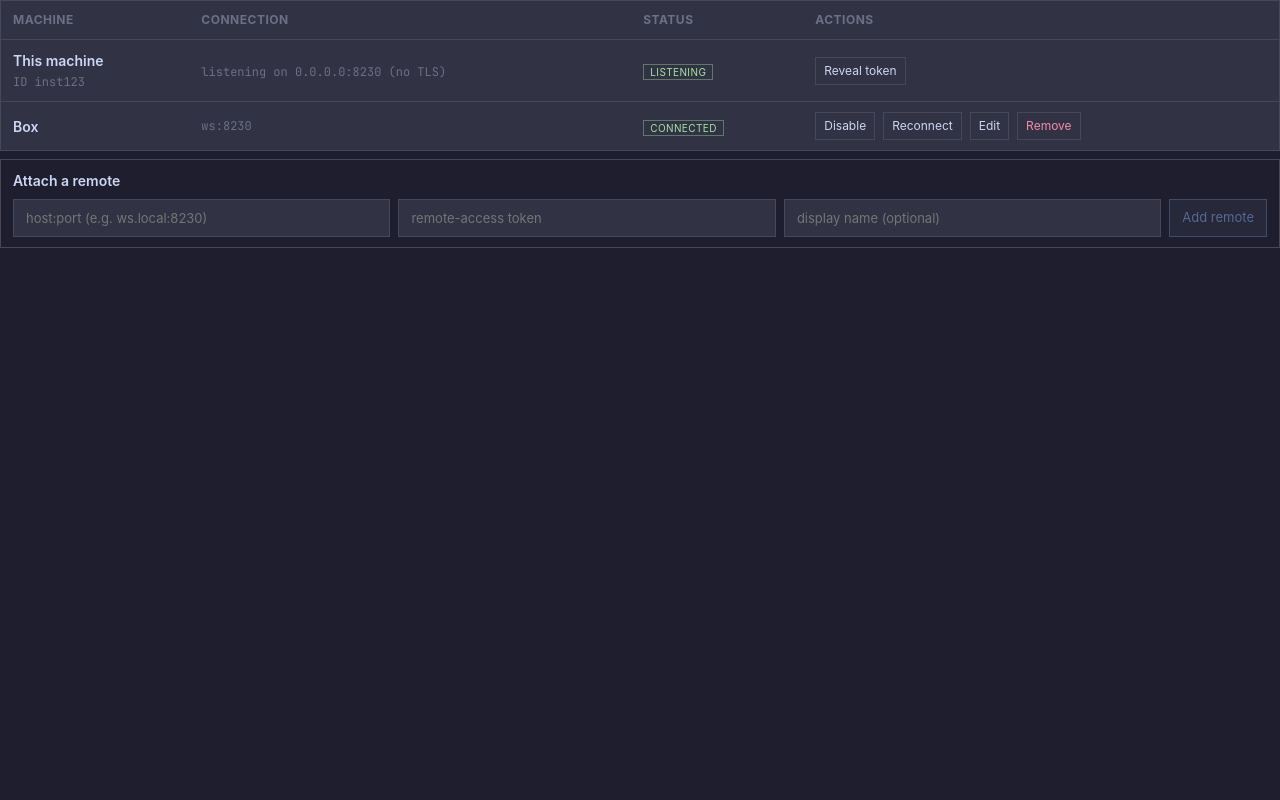
RemoteSettings › keeps the edit drawer and values after a failed save, then allows retry
Click the button "Edit".
click(989, 126)  # box left=970, top=112, right=1009, bottom=140
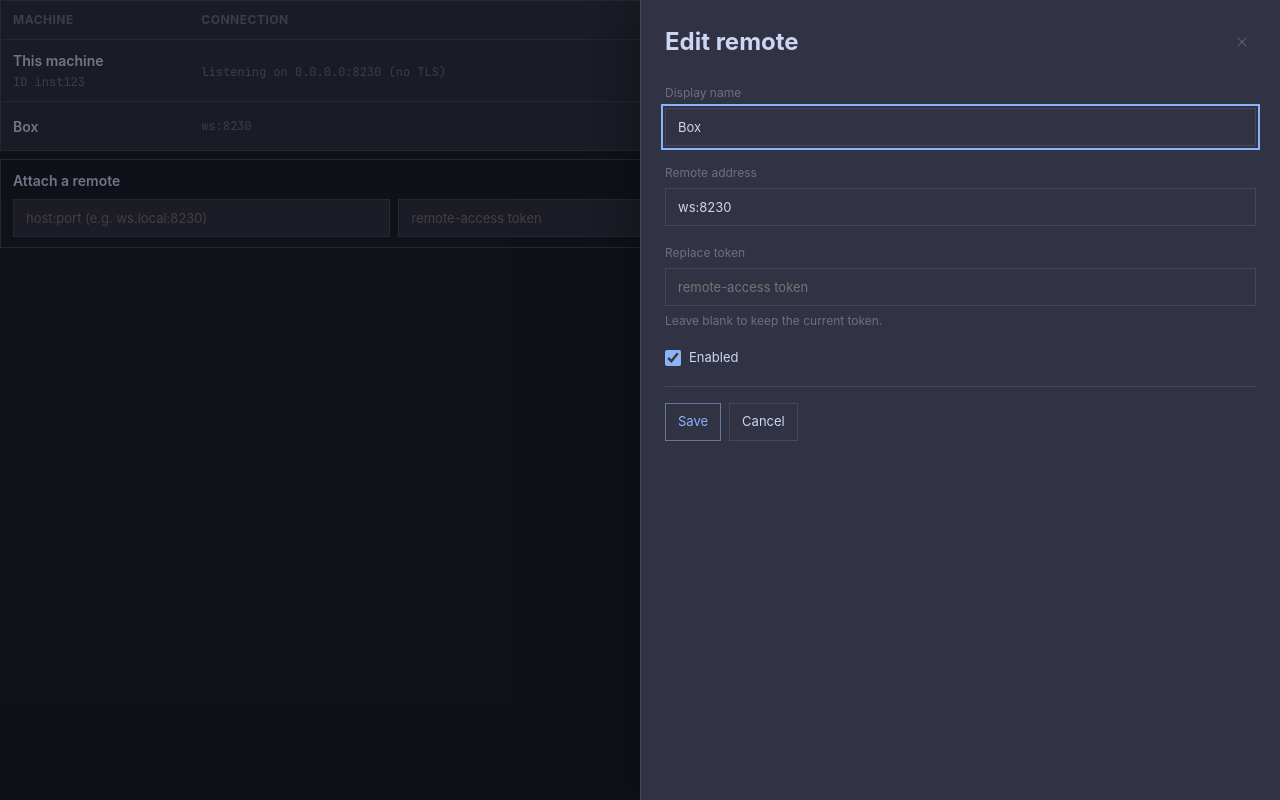
Replace the text in the field showing "Box" with "Renamed" at (960, 127), box left=665, top=108, right=1256, bottom=146
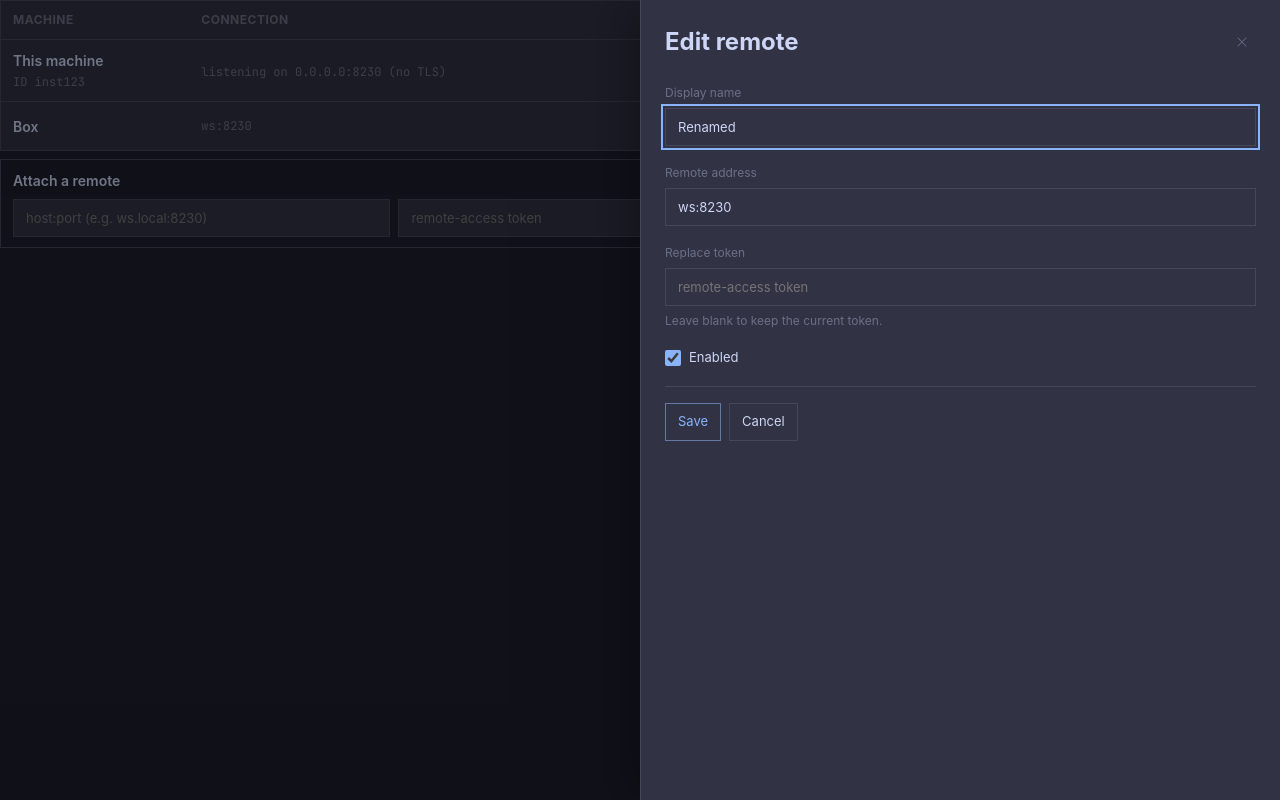
Click the button "Save".
click(693, 422)  # box left=665, top=402, right=721, bottom=440
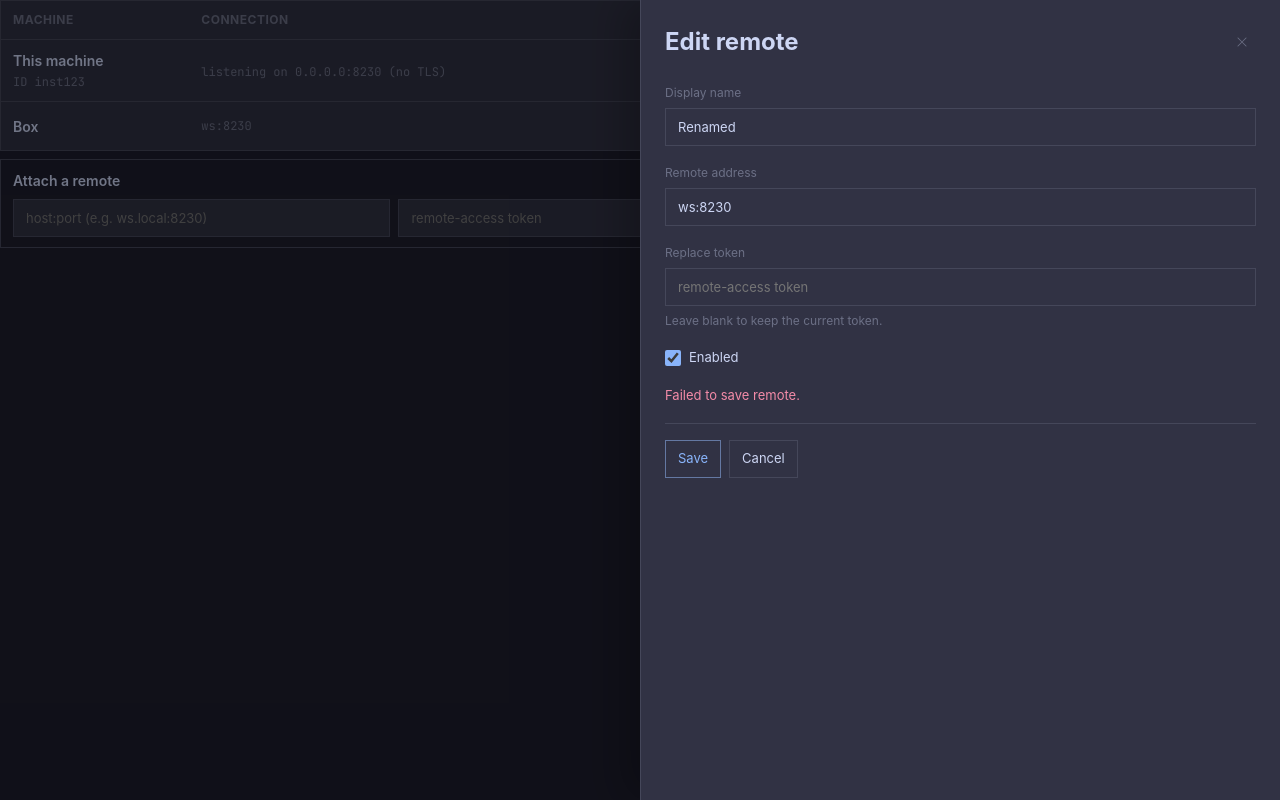
Expected: the message reads "Failed to save remote.", left=665, top=386, right=800, bottom=402
Click the button "Save".
click(693, 459)  # box left=665, top=440, right=721, bottom=478
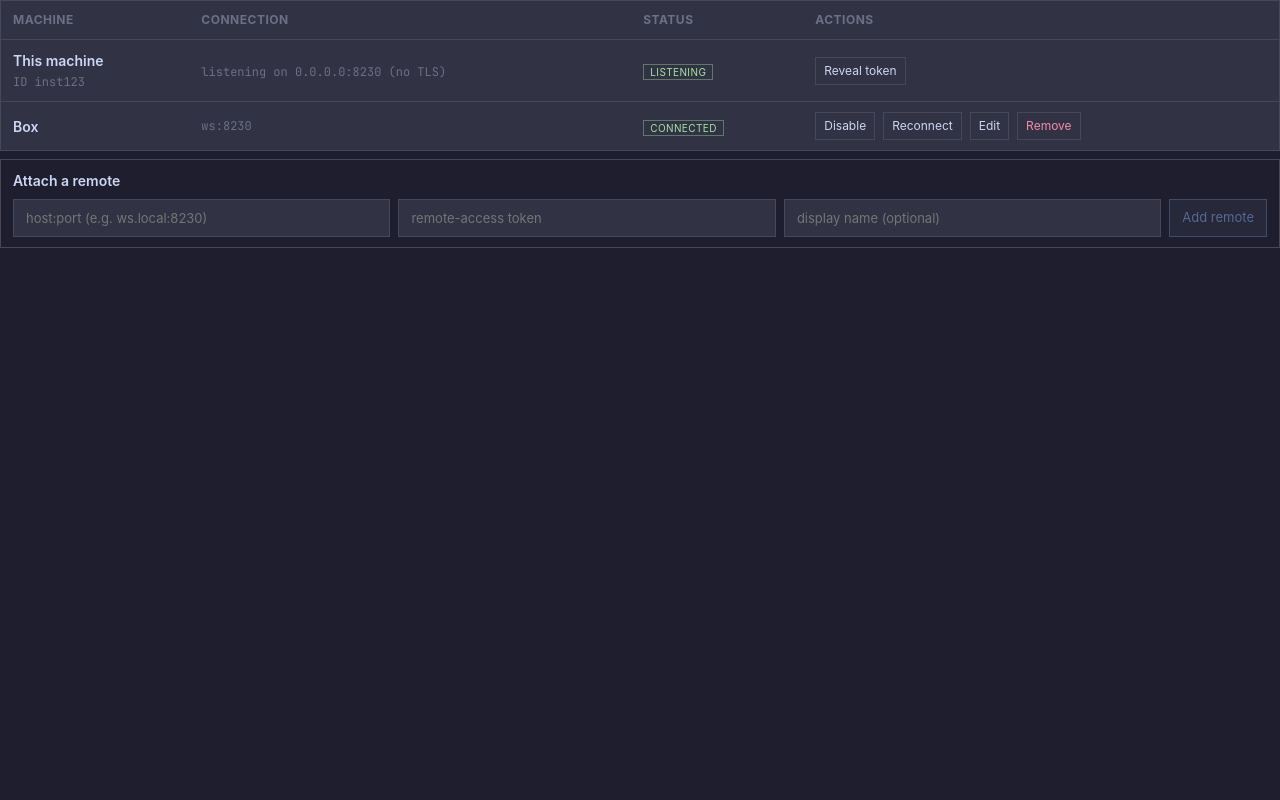
Expected: the dialog is gone
